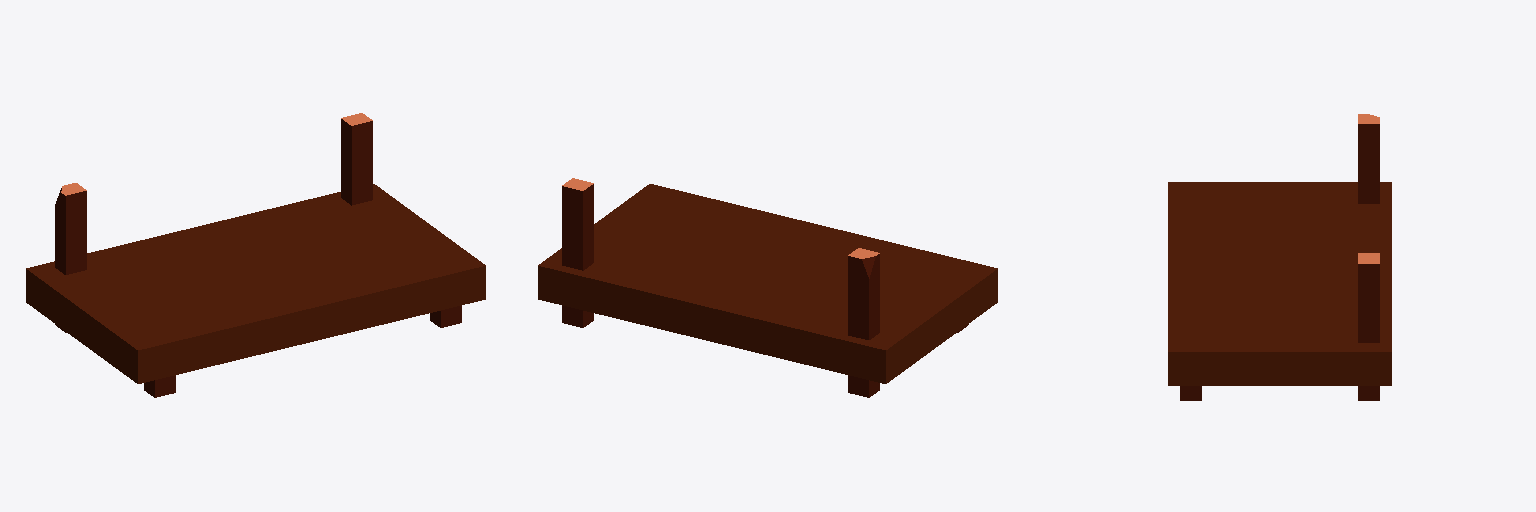
Rendered from wood_stand.obj.
3 renders of one model, left to right at view 1: azimuth 30°, elevation 25°; view 2: azimuth 150°, elevation 25°; view 3: azimuth 270°, elevation 25°, orthographic.
Visible parts, largest first — view 1: Cube.013, Cube.014; view 2: Cube.013, Cube.014; view 3: Cube.013, Cube.014.
Part boxes in pixels (x1,y1,x2,y2): Cube.013: (26, 184, 485, 383); Cube.014: (55, 113, 461, 397); Cube.013: (538, 184, 997, 383); Cube.014: (562, 178, 968, 397); Cube.013: (1168, 182, 1391, 385); Cube.014: (1180, 114, 1379, 400).
Size of the model in its own units: 3.58 by 1.35 by 2.